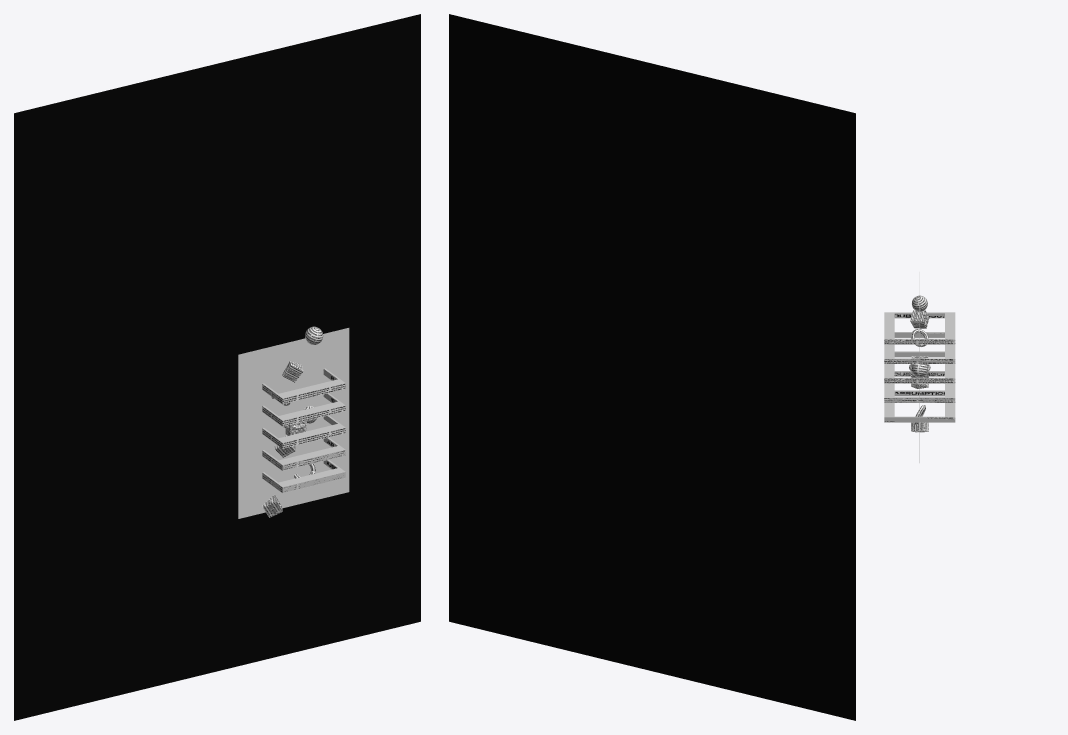
File: Poster01-V05.fbx
3 views of the same model, side by side, from view 1: azimuth 30°, elevation 25°; view 2: azimuth 150°, elevation 25°; view 3: azimuth 270°, elevation 25° (orthographic). The views are drawn at different scales.
Visible parts, largest first — view 1: Background, Size of canvas, MainCubeRef, MainCube.004, MainCube.003; view 2: Background; view 3: MainCubeRef, MainCube.004, MainCube.003, TheCube.001.
Part boxes in pixels (x1,y1,x2,y2): Background: [14, 14, 420, 720]; Size of canvas: [238, 328, 349, 518]; MainCubeRef: [262, 368, 345, 493]; MainCube.004: [262, 460, 345, 492]; MainCube.003: [262, 437, 345, 470]; Background: [449, 14, 855, 720]; MainCubeRef: [884, 312, 955, 422]; MainCube.004: [884, 390, 955, 422]; MainCube.003: [884, 371, 955, 402]; TheCube.001: [910, 310, 929, 328].
Size of the model in its own units: 154 by 220 by 63.3.
